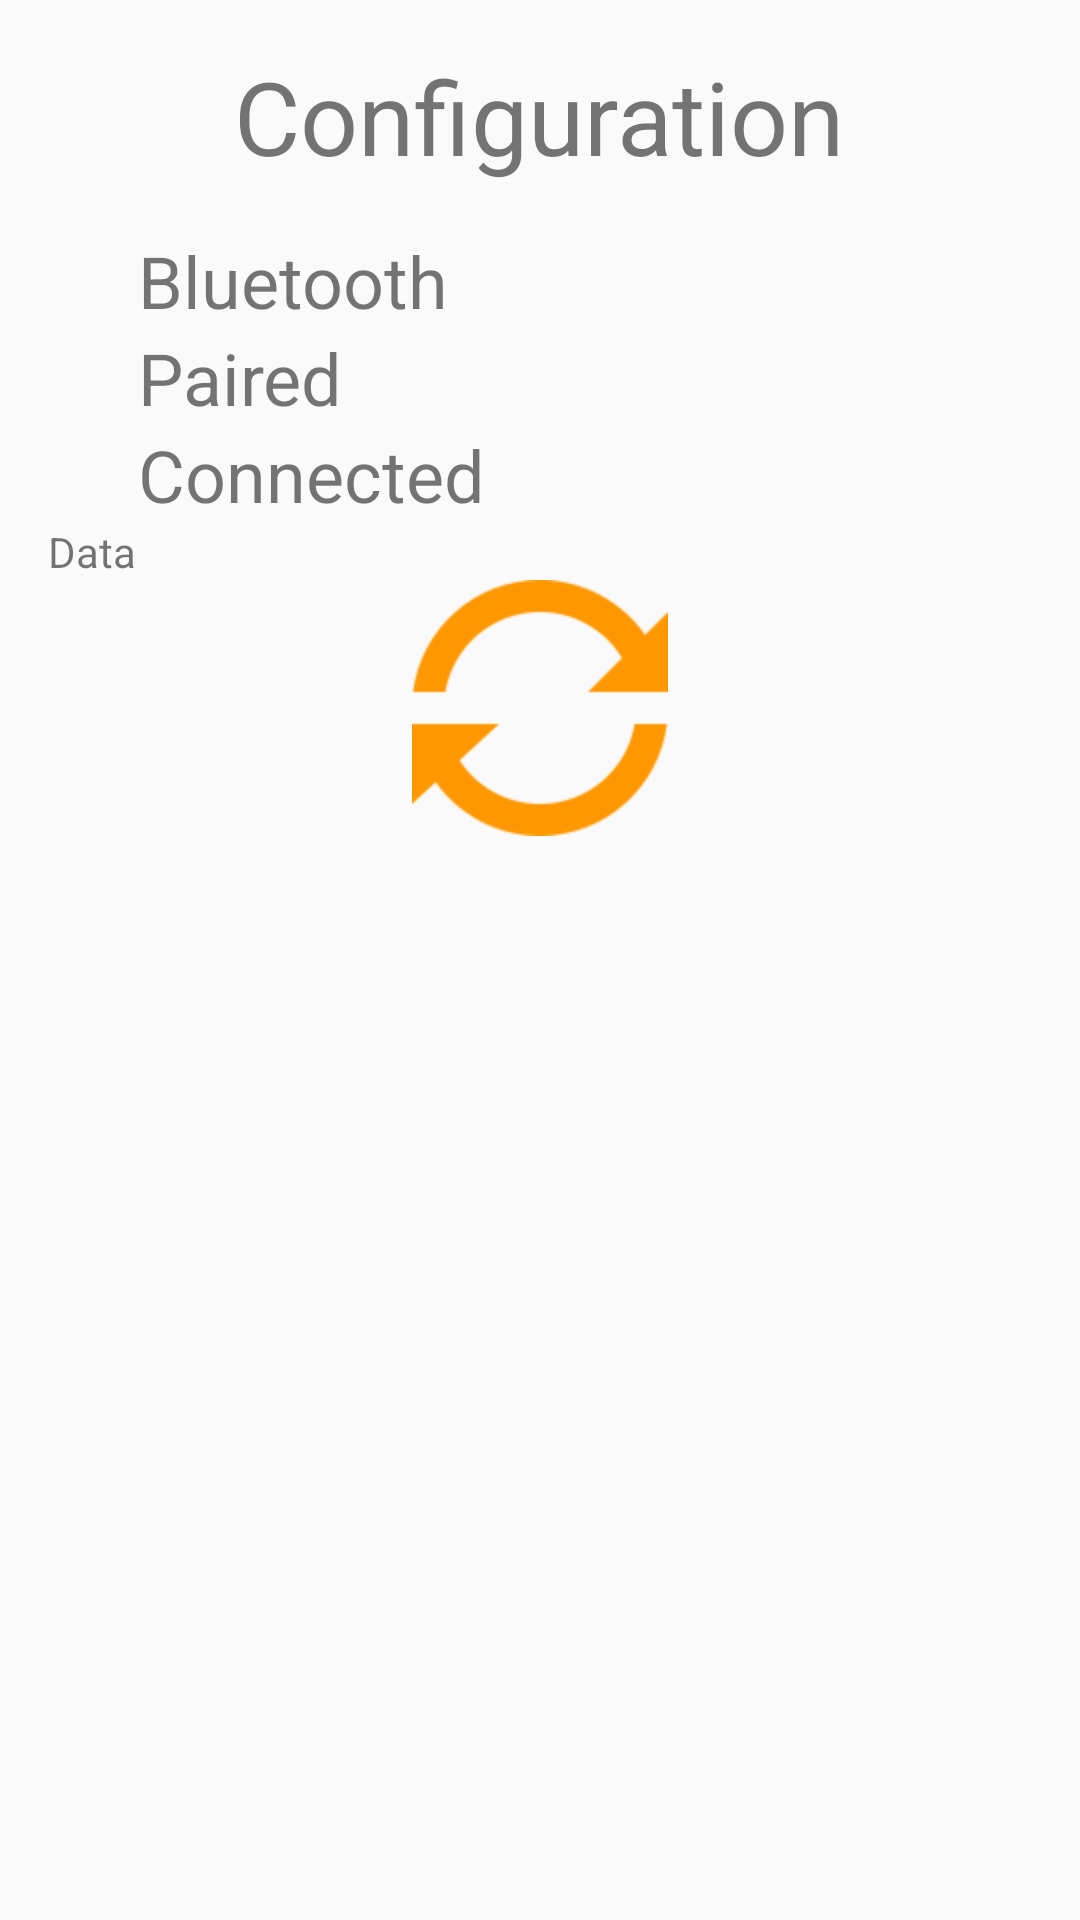

Where to tap for icons on this 1080px×1920px app screen, as (x=x, y=y):
refresh: (x=540, y=708)
